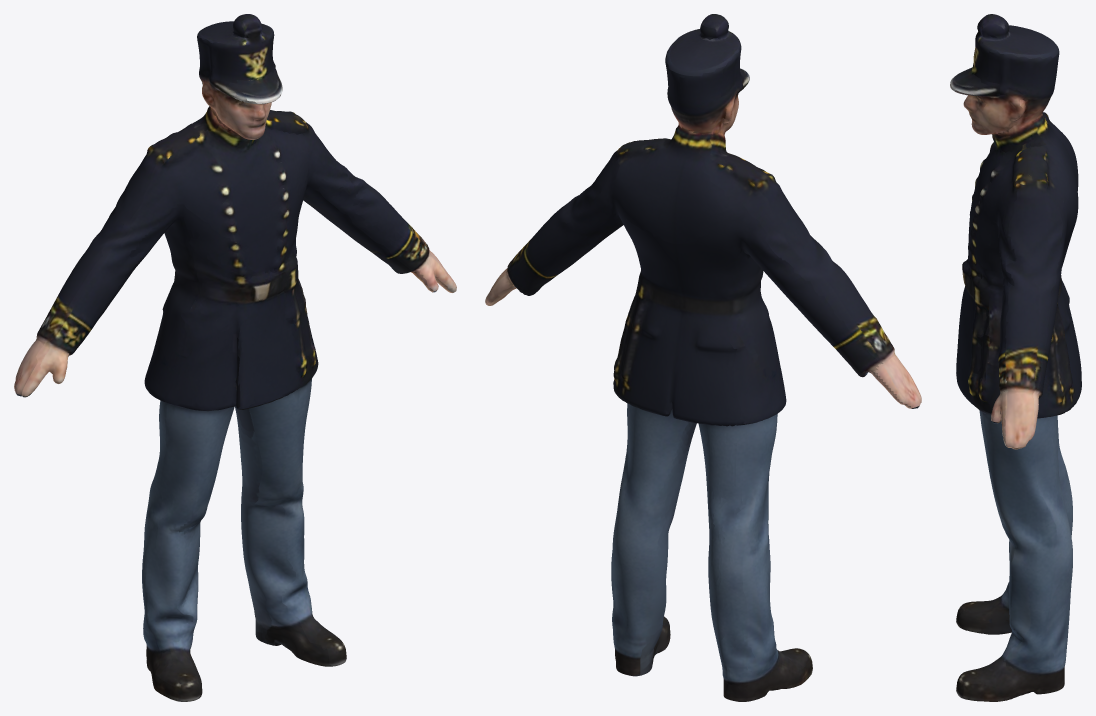
File: SE_Officer_1864_v2.glb
3 renders of one model, left to right at view 1: azimuth 30°, elevation 25°; view 2: azimuth 150°, elevation 25°; view 3: azimuth 270°, elevation 25°, orthographic.
Parts seen in each view (by area): view 1: tmpg9h6jzvs.ply; view 2: tmpg9h6jzvs.ply; view 3: tmpg9h6jzvs.ply.
Boxes of the visible parts, box(x1,y1,x2,y2) form: tmpg9h6jzvs.ply: box(14, 14, 456, 701); tmpg9h6jzvs.ply: box(485, 14, 921, 701); tmpg9h6jzvs.ply: box(950, 14, 1081, 701).
Bounding box in the file's own units: 1.39 × 1.99 × 0.369.
1 material, 1 textured.
